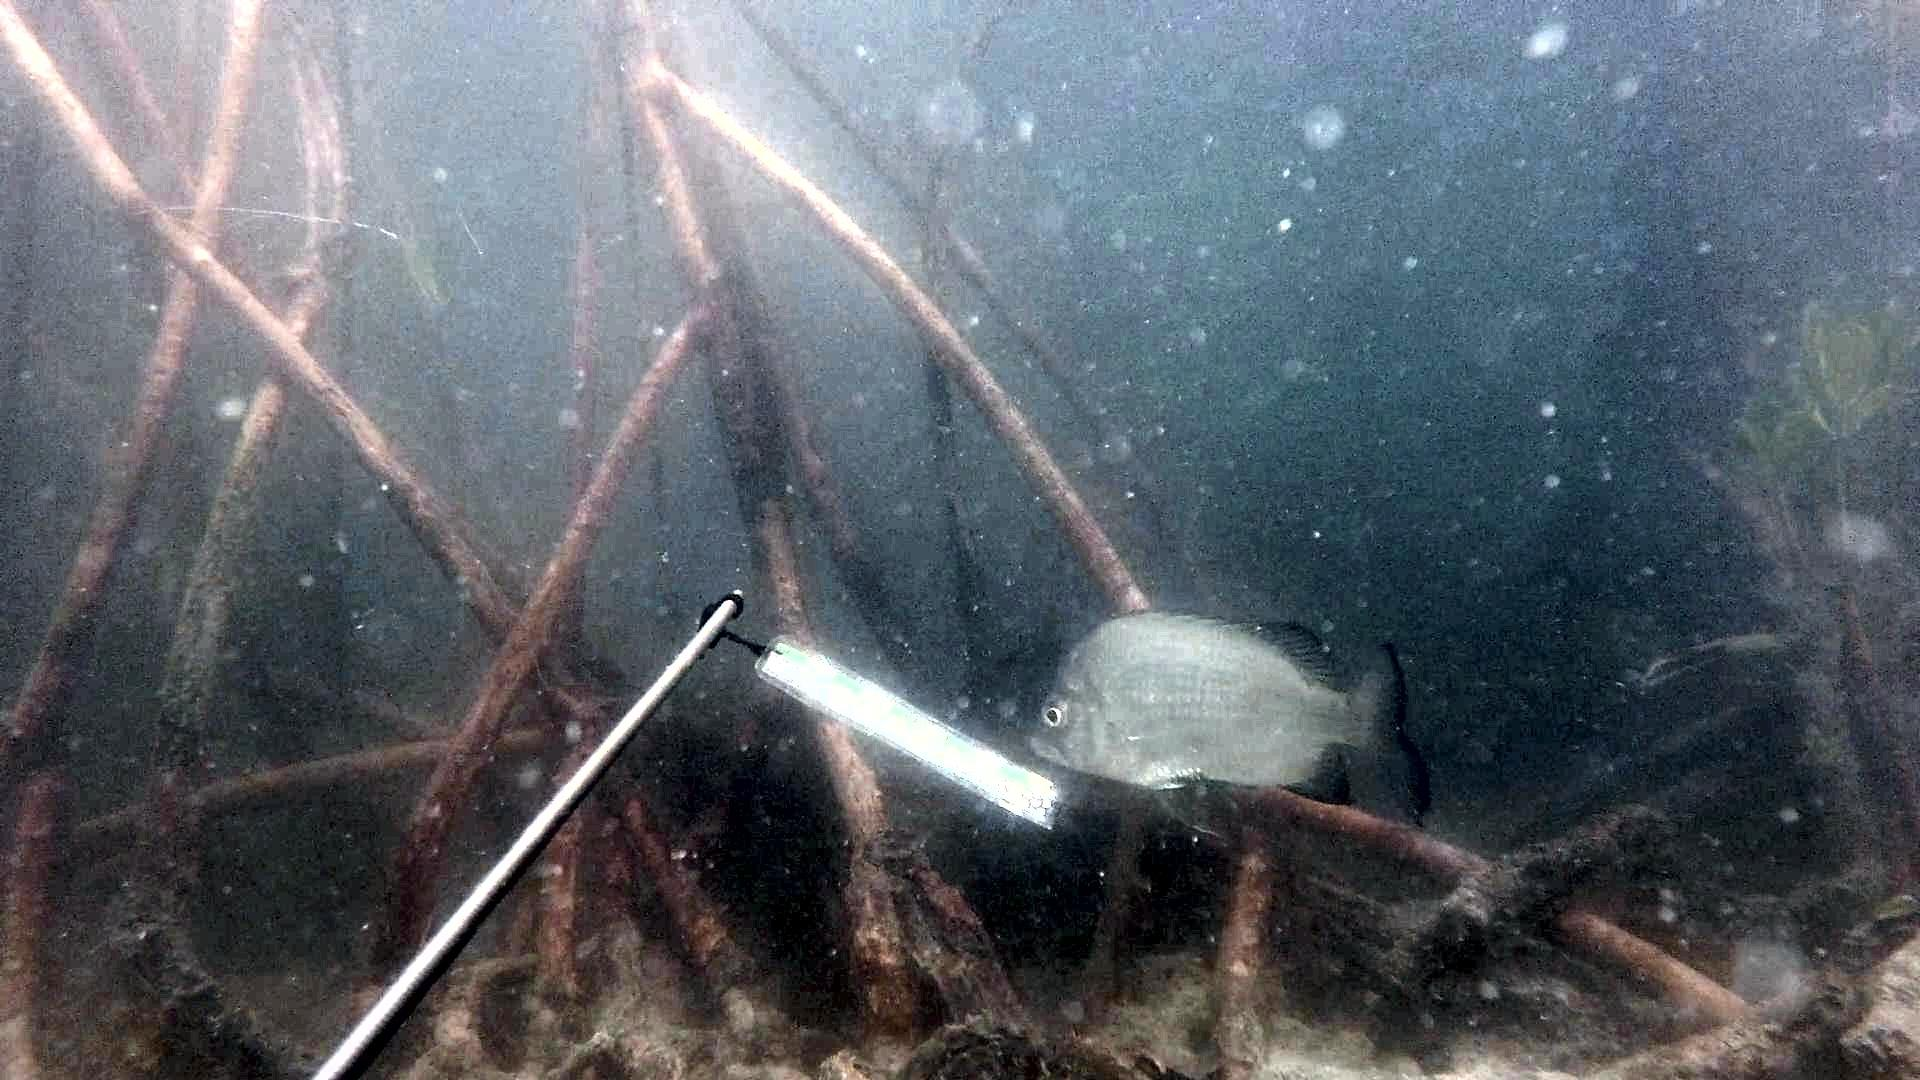acanthopagrus palmaris: (1021, 604, 1437, 853)
